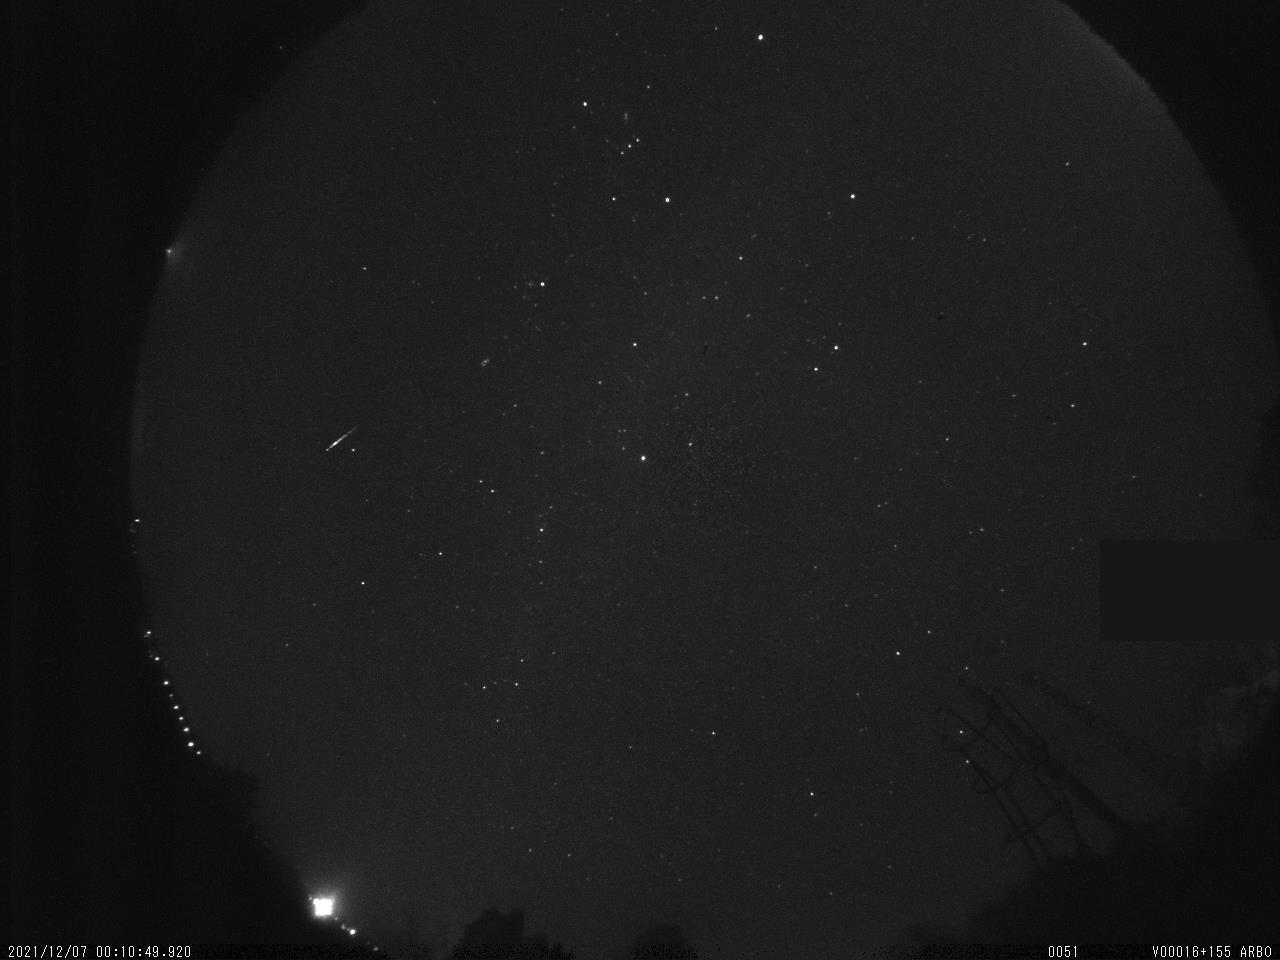meteor: (312, 413, 364, 457)
